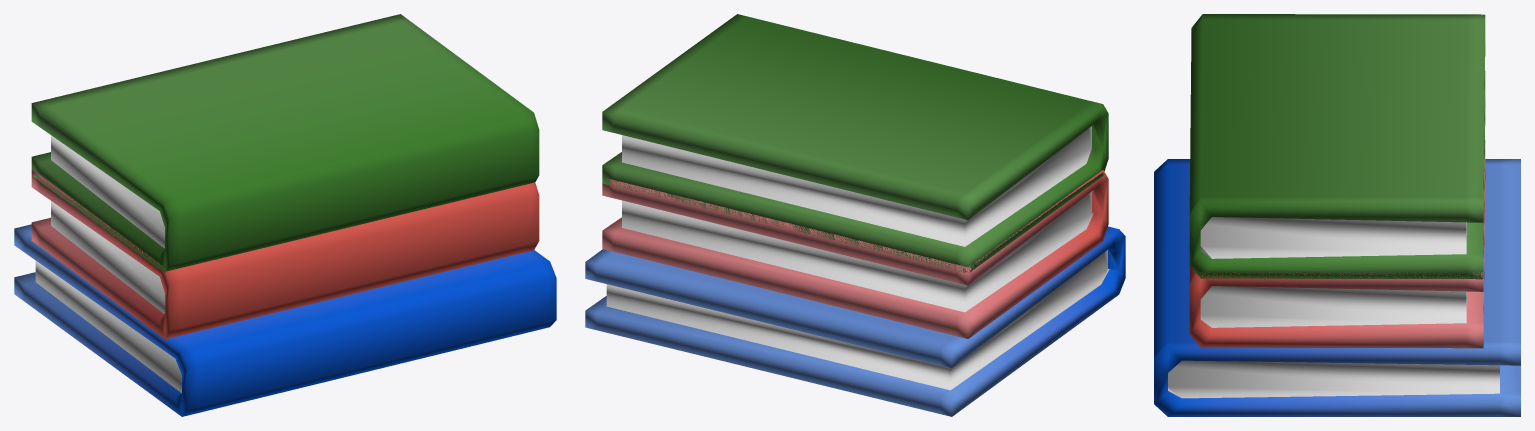
File: BookStack2.fbx
The picture shows the model from 3 angles, left to right: view 1: azimuth 30°, elevation 25°; view 2: azimuth 150°, elevation 25°; view 3: azimuth 270°, elevation 25°; orthographic projection. The views are drawn at different scales.
Visible parts, largest first — view 1: Plane.002; view 2: Plane.002; view 3: Plane.002.
Boxes of the visible parts, x1=… form: Plane.002: x1=14, y1=14, x2=556, y2=416; Plane.002: x1=585, y1=14, x2=1125, y2=416; Plane.002: x1=1154, y1=14, x2=1520, y2=416.
Size of the model in its own units: 58.85 by 30.97 by 48.16.
